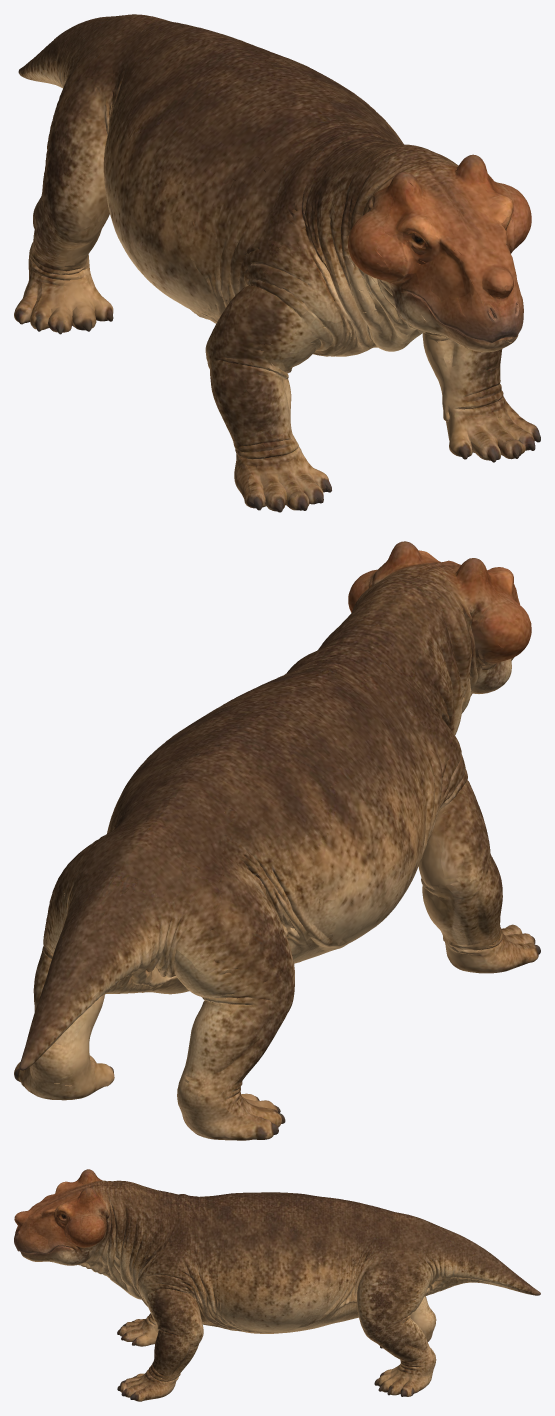
3 renders of one model, top to bottom at view 1: azimuth 30°, elevation 25°; view 2: azimuth 150°, elevation 25°; view 3: azimuth 270°, elevation 25°, orthographic. The views are drawn at different scales.
Parts seen in each view (by area): view 1: Authored orientation; view 2: Authored orientation; view 3: Authored orientation.
Boxes of the visible parts, box(x1,y1,x2,y2) form: Authored orientation: box(14, 14, 540, 512); Authored orientation: box(14, 541, 540, 1140); Authored orientation: box(14, 1169, 540, 1401).
Size of the model in its own units: 1.09 by 1.22 by 3.16.
Materials: 1 (1 with a texture image).
